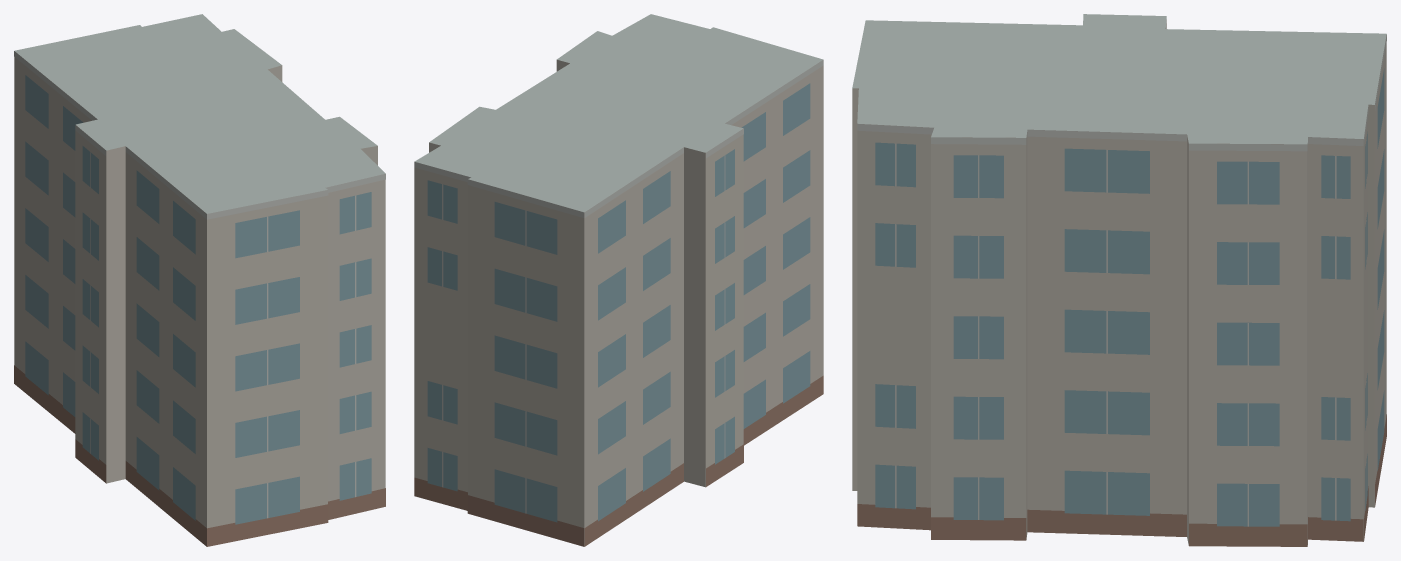
File: survey-upis-33023872.glb
3 renders of one model, left to right at view 1: azimuth 30°, elevation 25°; view 2: azimuth 150°, elevation 25°; view 3: azimuth 270°, elevation 25°, orthographic. The views are drawn at different scales.
Parts seen in each view (by area): view 1: survey-upis-33023872.tmp; view 2: survey-upis-33023872.tmp; view 3: survey-upis-33023872.tmp.
Boxes of the visible parts, x1=… form: survey-upis-33023872.tmp: x1=14, y1=14, x2=385, y2=546; survey-upis-33023872.tmp: x1=414, y1=14, x2=823, y2=546; survey-upis-33023872.tmp: x1=852, y1=14, x2=1386, y2=546.
Size of the model in its own units: 9.76 by 14.05 by 16.92.
